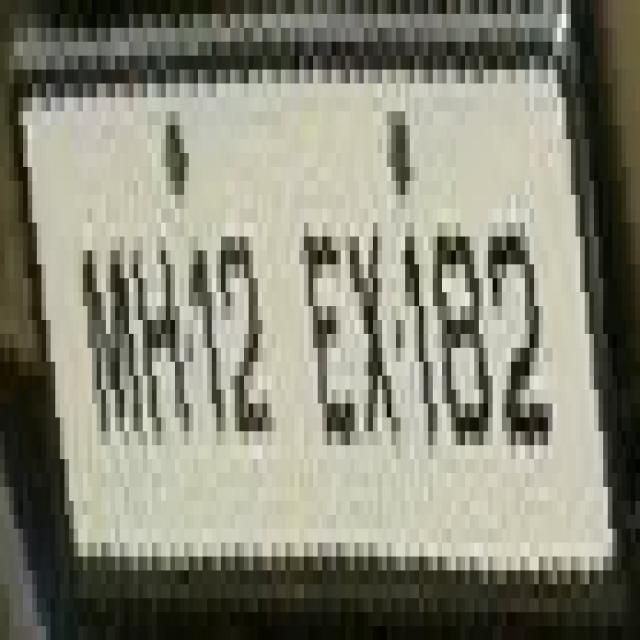license_plate: (0, 97, 608, 529)
